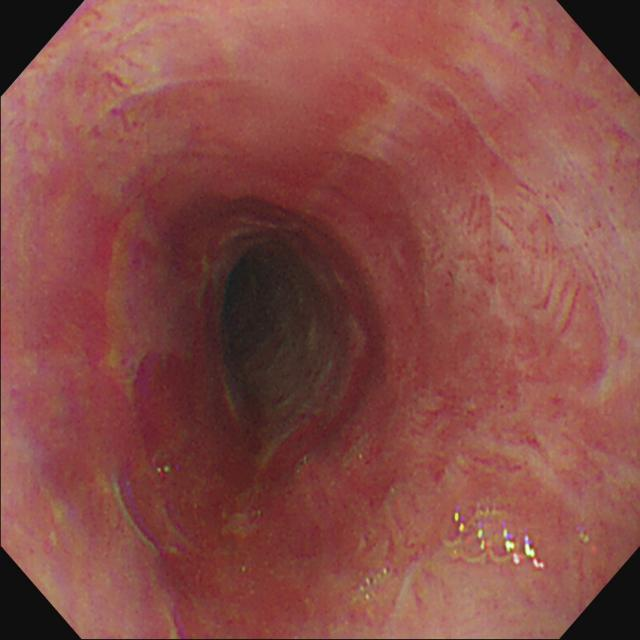A: (376, 194, 585, 425), (261, 436, 452, 640), (136, 352, 260, 640)
E: (225, 244, 344, 404)
U: (502, 526, 545, 569)
